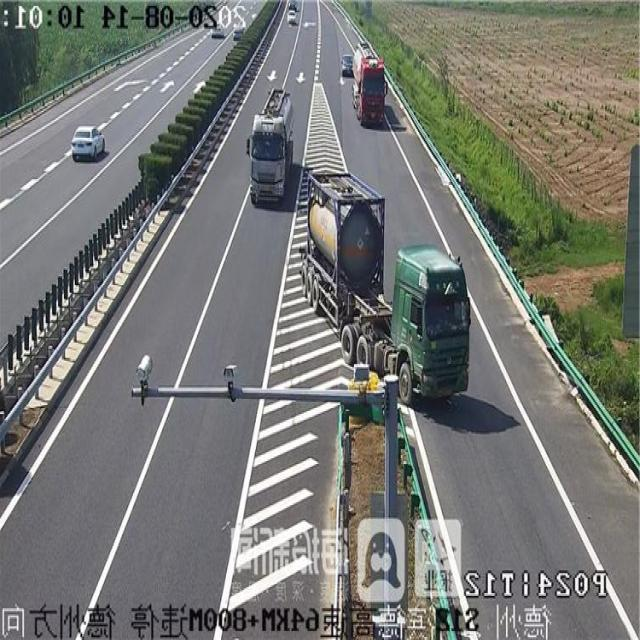point: (289, 0, 352, 89)
